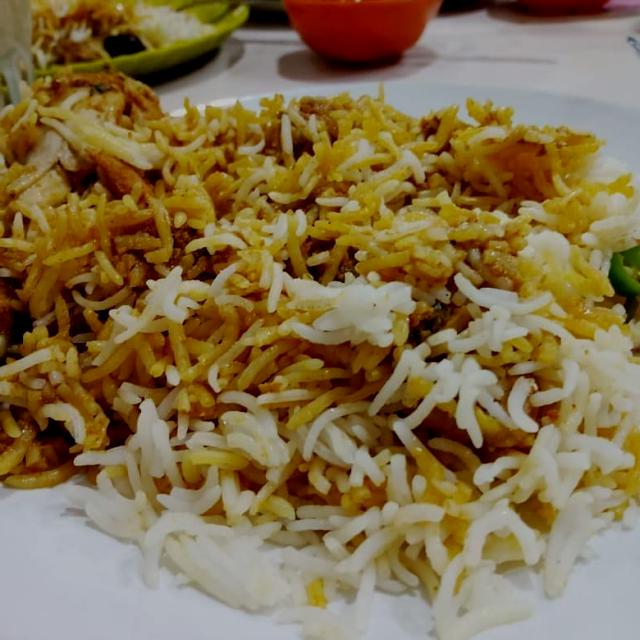biryani: (1, 70, 626, 640)
